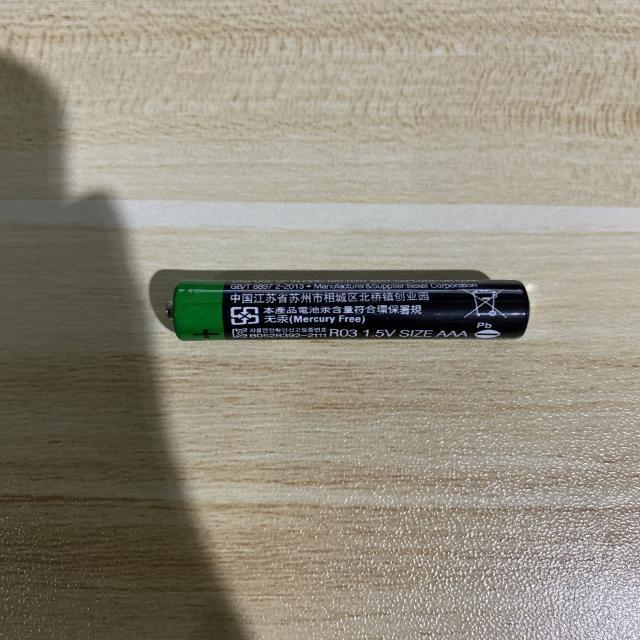AAA: (164, 283, 528, 340)
